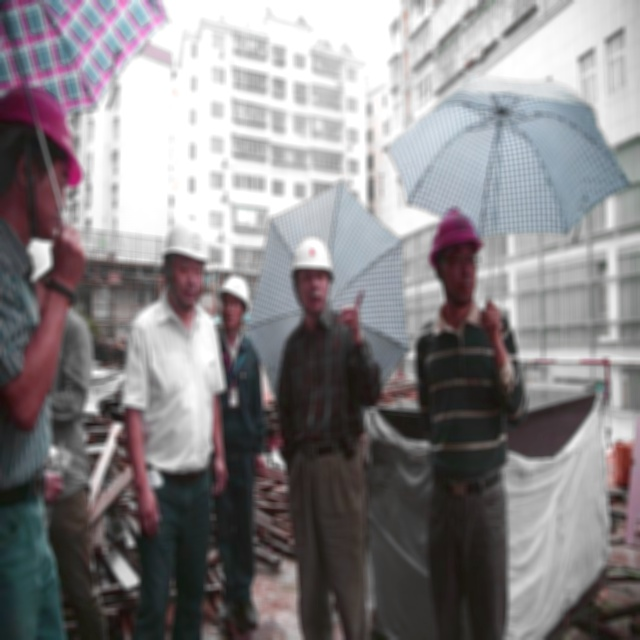Con_Casco: (159, 219, 209, 308), (289, 237, 332, 317)
Sin_Chaleco: (277, 313, 362, 459)
